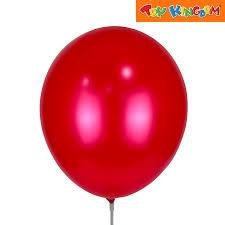red: (39, 26, 188, 202)
